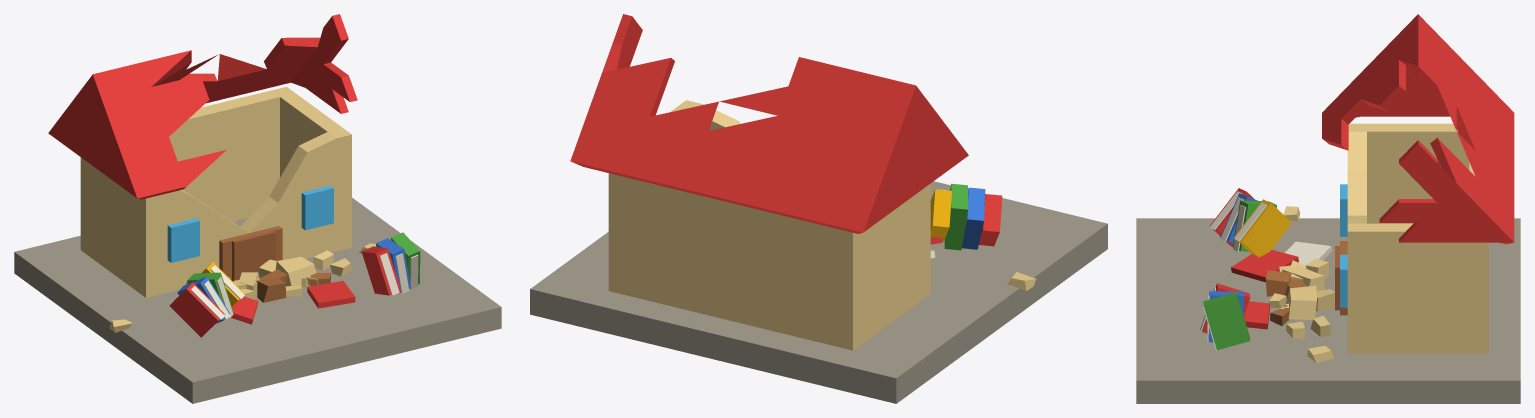
The model's file is library_t1_v1_dmg1.glb.
3 views of the same model, side by side, from view 1: azimuth 30°, elevation 25°; view 2: azimuth 150°, elevation 25°; view 3: azimuth 270°, elevation 25° (orthographic). The views are drawn at different scales.
Parts seen in each view (by area): view 1: library_t1_v1_dmg1; view 2: library_t1_v1_dmg1; view 3: library_t1_v1_dmg1.
Boxes of the visible parts, left/top/right/bottom form: library_t1_v1_dmg1: left=14, top=14, right=501, bottom=403; library_t1_v1_dmg1: left=530, top=14, right=1107, bottom=403; library_t1_v1_dmg1: left=1136, top=14, right=1520, bottom=403.
Size of the model in its own units: 0.6181 by 0.42 by 0.6.
1 material, 1 textured.
